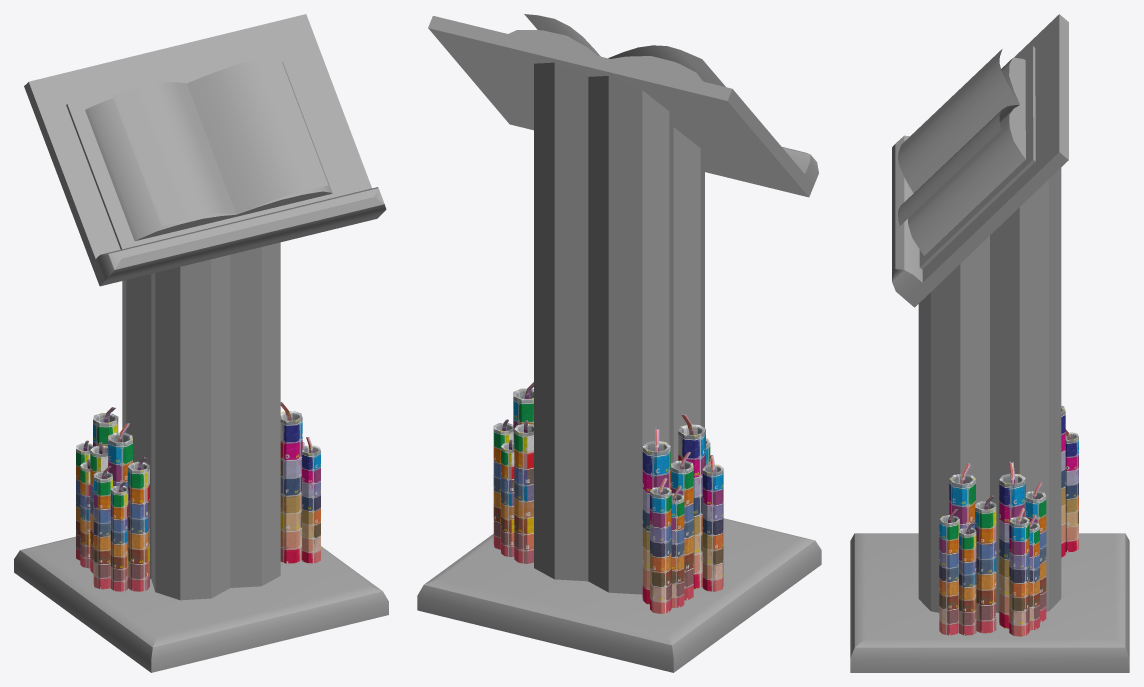
File: Origin_Object.fbx
3 renders of one model, left to right at view 1: azimuth 30°, elevation 25°; view 2: azimuth 150°, elevation 25°; view 3: azimuth 270°, elevation 25°, orthographic. The views are drawn at different scales.
Visible parts, largest first — view 1: polySurface920; view 2: polySurface920; view 3: polySurface920.
Boxes of the visible parts, <box> form: polySurface920: <box>14,14,388,672</box>; polySurface920: <box>417,14,821,672</box>; polySurface920: <box>850,14,1129,672</box>.
Bounding box in the file's own units: 0.1888 × 0.3386 × 0.1616.
